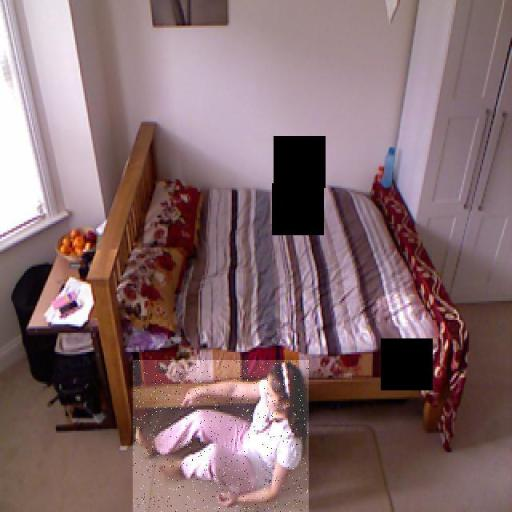Fall: (133, 360, 309, 512)
